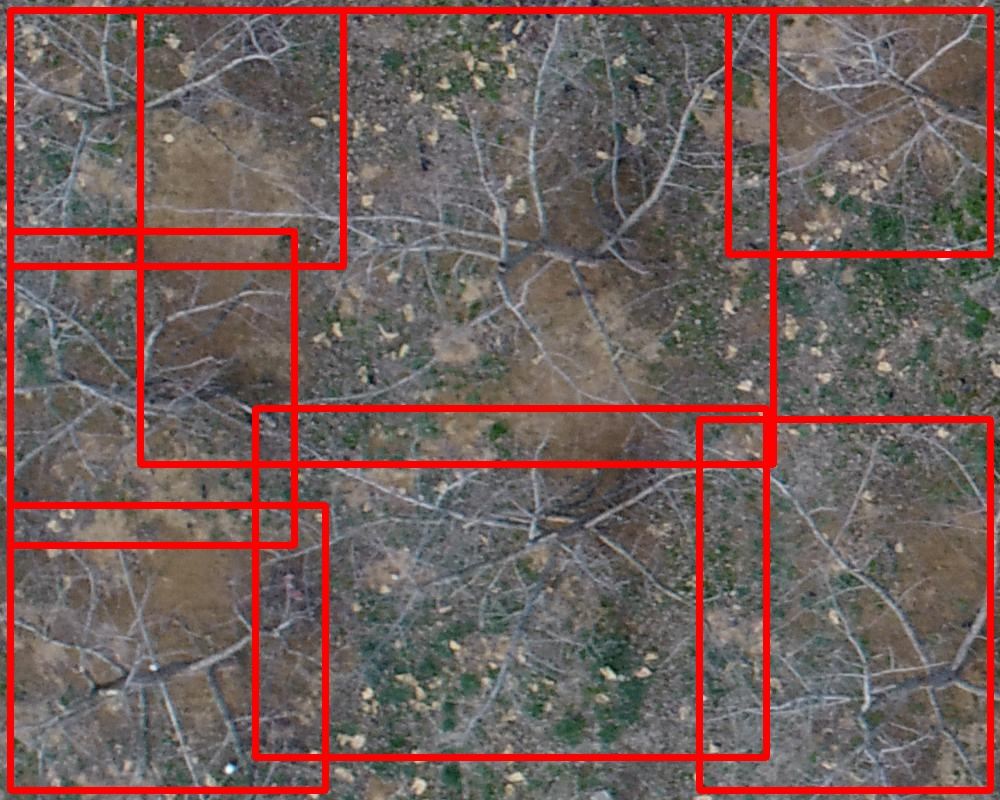apple: (140, 10, 773, 464), (255, 408, 766, 757), (699, 419, 990, 790), (10, 505, 325, 790), (10, 231, 294, 545), (10, 10, 343, 266), (728, 10, 990, 254)
